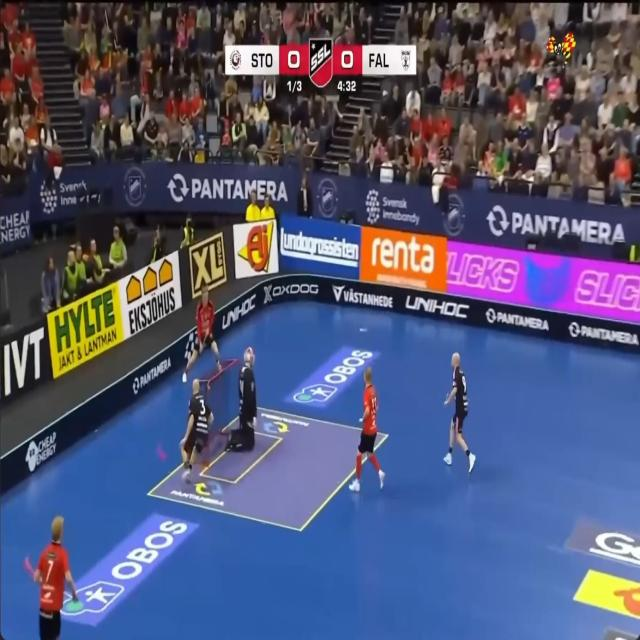player: (34, 516, 77, 639), (349, 367, 384, 490), (444, 352, 475, 472), (183, 287, 221, 382), (180, 379, 212, 482)
stick: (23, 556, 35, 580), (157, 444, 166, 462)
